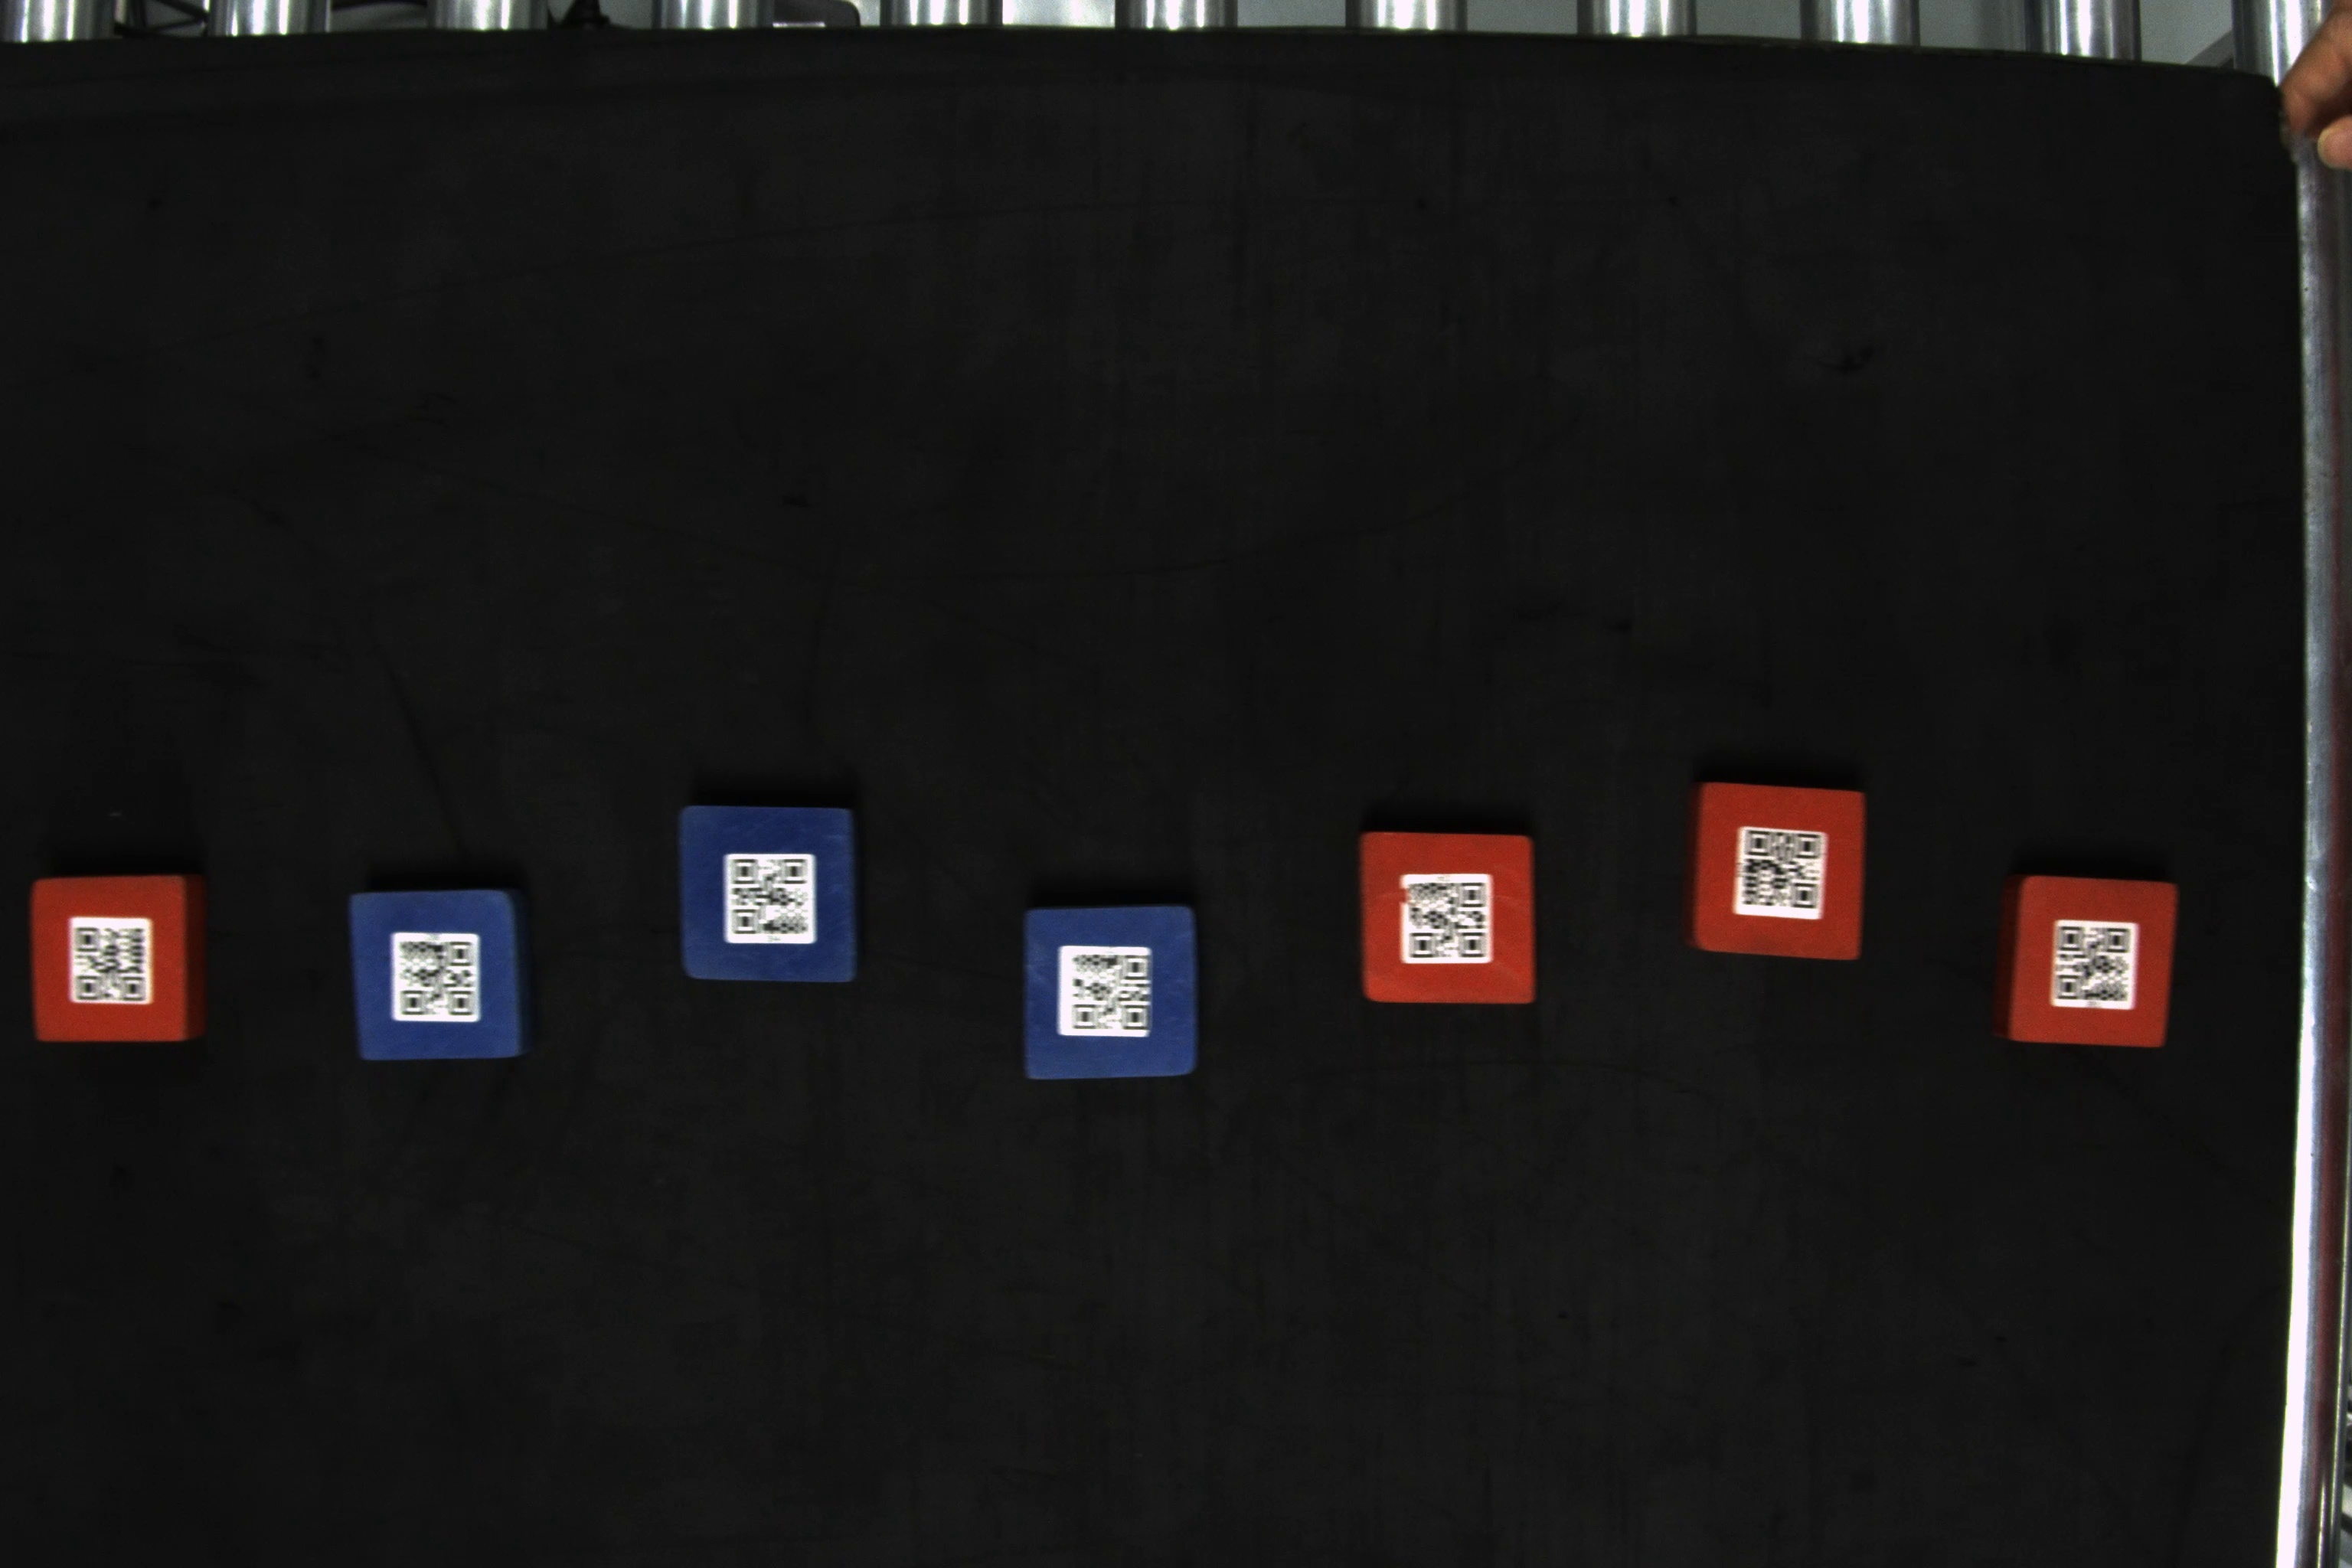wood: (677, 801, 870, 990), (339, 887, 539, 1069), (1351, 826, 1543, 1011), (1683, 777, 1876, 962), (1013, 906, 1207, 1085), (2002, 870, 2184, 1057), (26, 875, 212, 1045)
